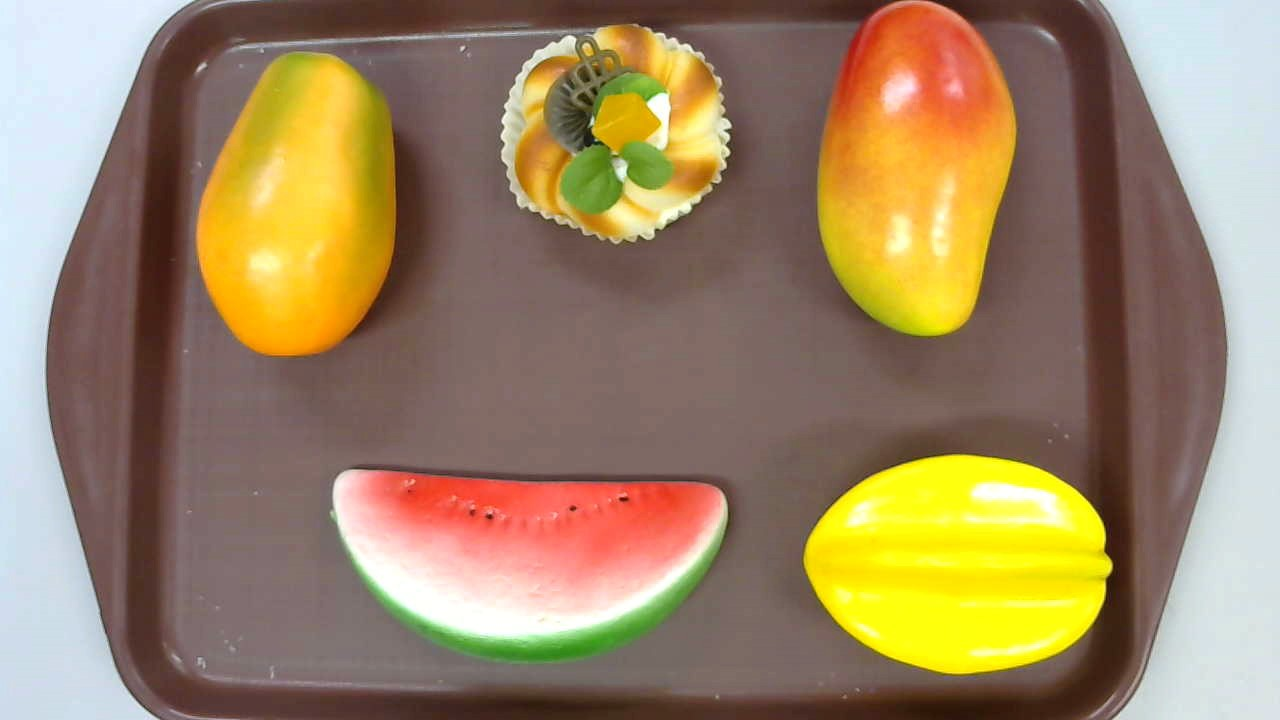fruit tart: (500, 22, 734, 245)
papya: (195, 52, 395, 357)
red mango: (817, 1, 1016, 336)
star fruit: (802, 454, 1112, 675)
water melon: (329, 468, 728, 664)
